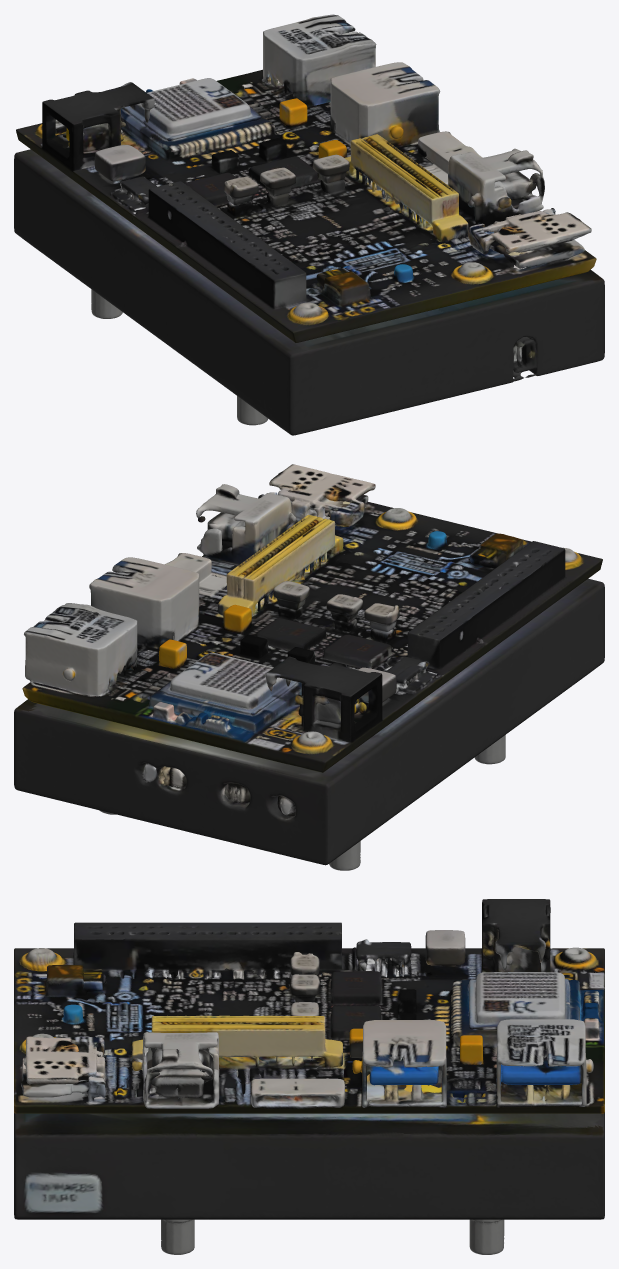
Rendered from board.glb.
3 renders of one model, top to bottom at view 1: azimuth 30°, elevation 25°; view 2: azimuth 150°, elevation 25°; view 3: azimuth 270°, elevation 25°, orthographic. The views are drawn at different scales.
Parts seen in each view (by area): view 1: tripo_node_64fe3ed6-4c7c-4e07-94c3-ce4cad6fd16e; view 2: tripo_node_64fe3ed6-4c7c-4e07-94c3-ce4cad6fd16e; view 3: tripo_node_64fe3ed6-4c7c-4e07-94c3-ce4cad6fd16e.
Part boxes in pixels (x1,y1,x2,y2): tripo_node_64fe3ed6-4c7c-4e07-94c3-ce4cad6fd16e: [14, 14, 604, 435]; tripo_node_64fe3ed6-4c7c-4e07-94c3-ce4cad6fd16e: [14, 464, 604, 870]; tripo_node_64fe3ed6-4c7c-4e07-94c3-ce4cad6fd16e: [14, 899, 604, 1254].
Bounding box in the file's own units: 0.6596 × 0.4038 × 1.
1 material, 1 textured.
